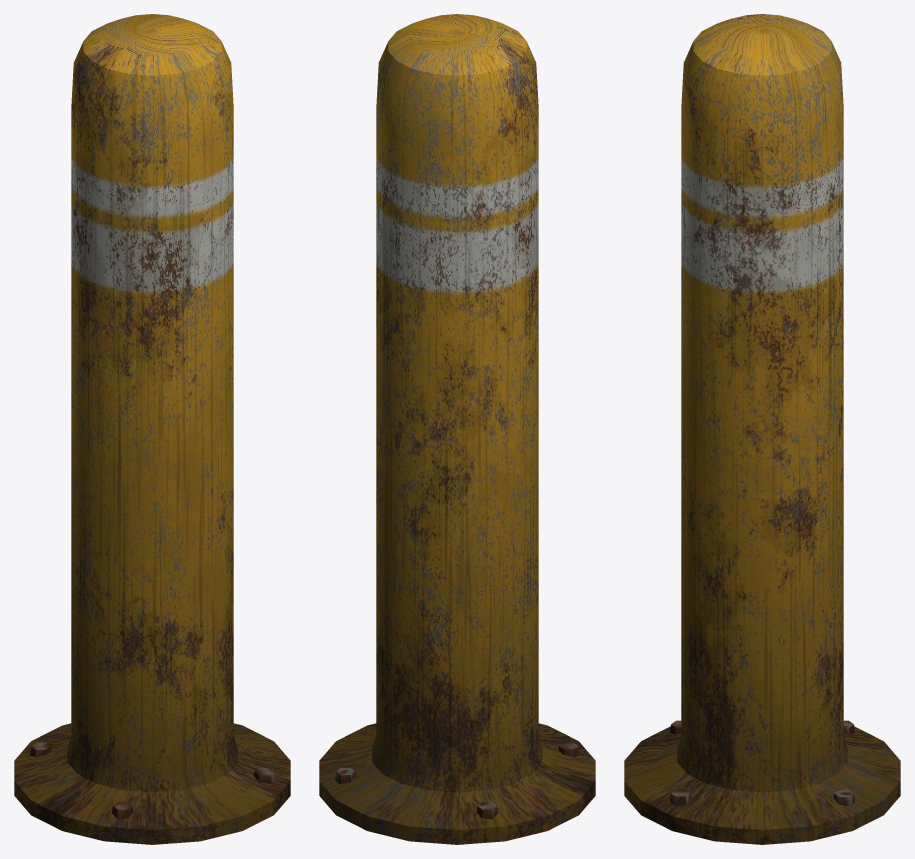
The model's file is bollard.glb.
3 renders of one model, left to right at view 1: azimuth 30°, elevation 25°; view 2: azimuth 150°, elevation 25°; view 3: azimuth 270°, elevation 25°, orthographic.
Parts seen in each view (by area): view 1: bollard_bollard, bollard_galvanized; view 2: bollard_bollard, bollard_galvanized; view 3: bollard_bollard, bollard_galvanized.
Part boxes in pixels (x1,y1,x2,y2): bollard_bollard: (14, 14, 290, 844); bollard_galvanized: (30, 742, 274, 818); bollard_bollard: (319, 14, 595, 844); bollard_galvanized: (335, 742, 579, 818); bollard_bollard: (624, 14, 900, 844); bollard_galvanized: (670, 720, 854, 806).
Size of the model in its own units: 0.34 by 1.01 by 0.3348.
2 materials, 2 textured.
